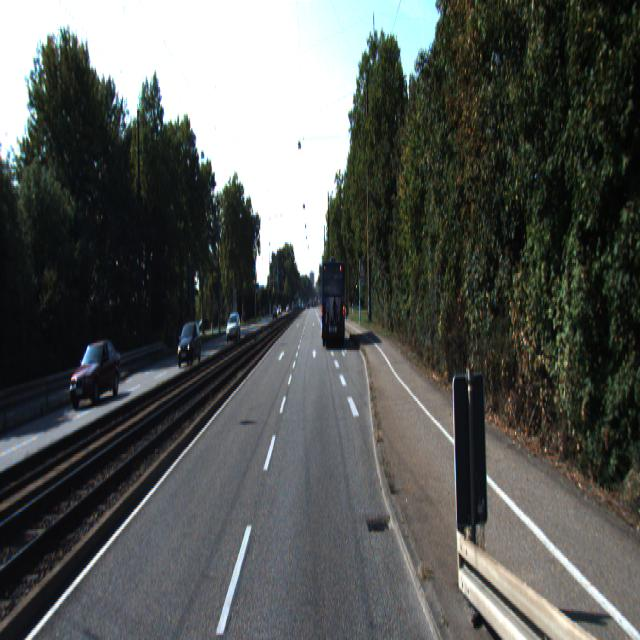Car: (69, 342, 125, 412), (321, 258, 346, 348), (176, 321, 202, 367), (225, 312, 242, 345)
